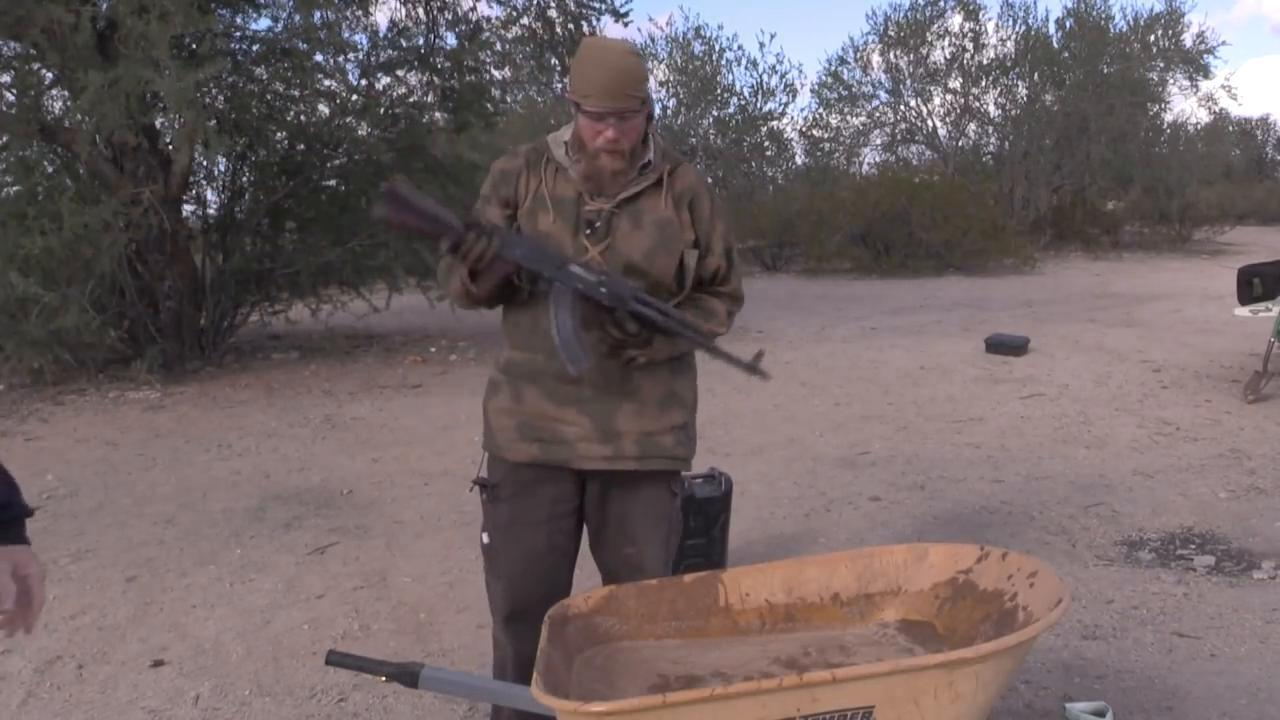AK47 Rifle: (369, 171, 776, 385)
